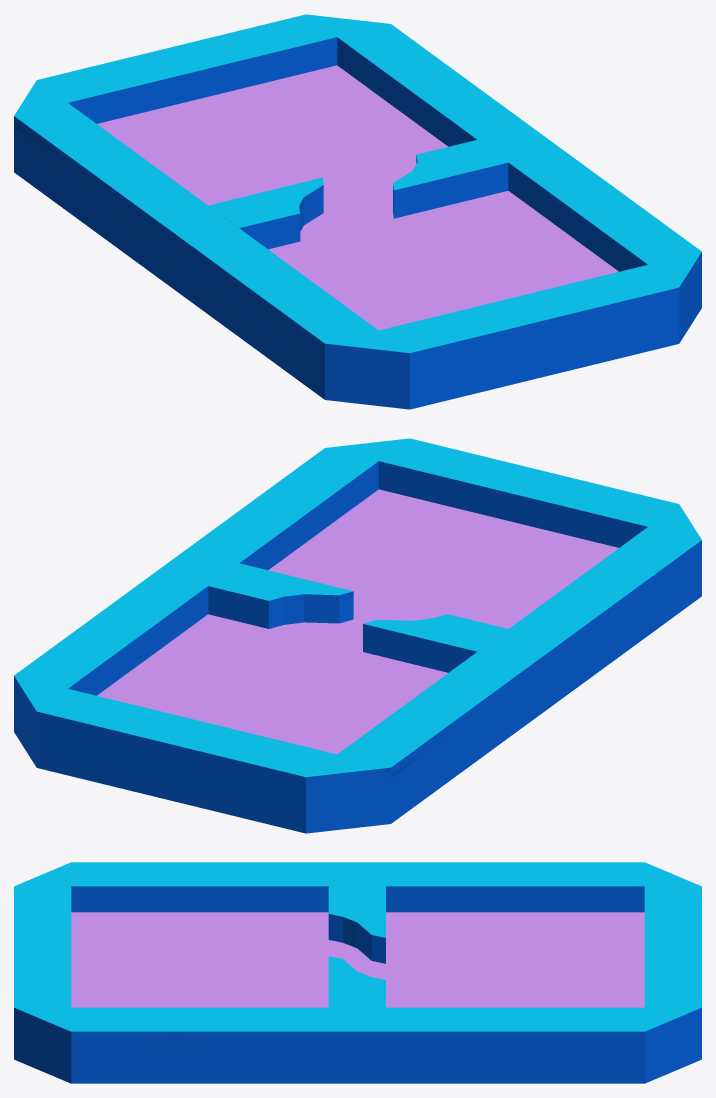
Rendered from table-beyondclassic-01-wCol.glb.
The picture shows the model from 3 angles, top to bottom: view 1: azimuth 30°, elevation 25°; view 2: azimuth 150°, elevation 25°; view 3: azimuth 270°, elevation 25°; orthographic projection. The views are drawn at different scales.
Parts seen in each view (by area): view 1: Table_BeyondClassic; view 2: Table_BeyondClassic; view 3: Table_BeyondClassic.
Part boxes in pixels (x1,y1,x2,y2): Table_BeyondClassic: (14,14,701,409); Table_BeyondClassic: (14,438,701,833); Table_BeyondClassic: (14,862,701,1083).
Size of what is drawn, in the model's own units: 14 by 2 by 24.
Materials: 1 (1 with a texture image).
